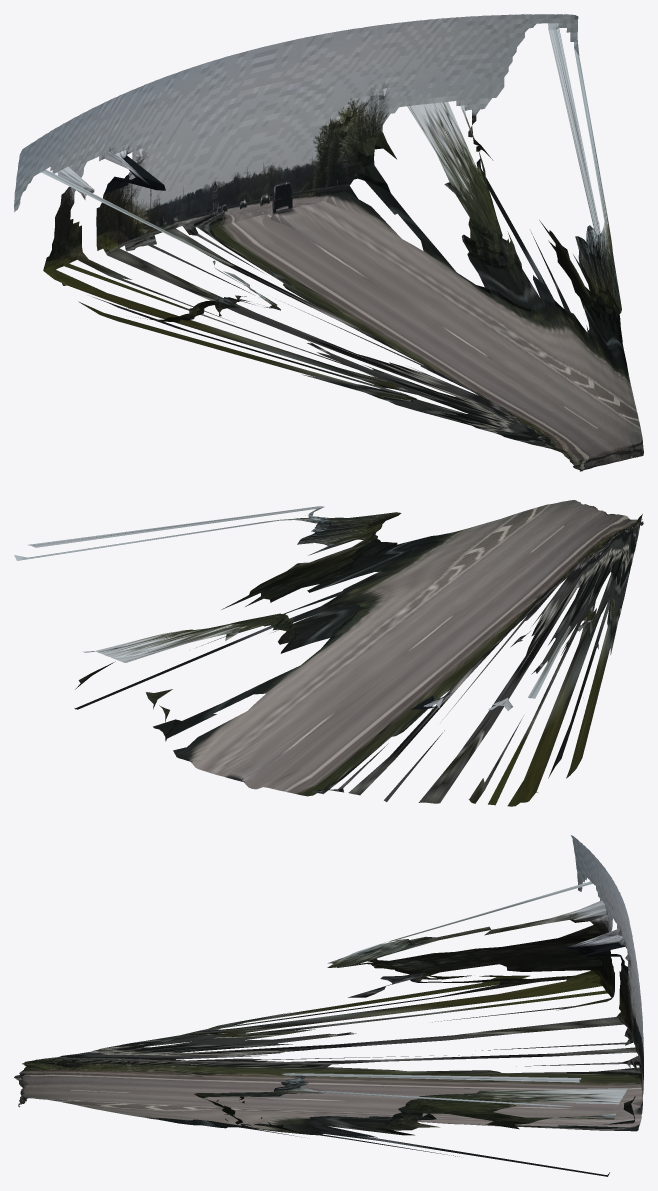
The picture shows the model from 3 angles, top to bottom: view 1: azimuth 30°, elevation 25°; view 2: azimuth 150°, elevation 25°; view 3: azimuth 270°, elevation 25°; orthographic projection. The views are drawn at different scales.
Parts seen in each view (by area): view 1: defaultobject; view 2: defaultobject; view 3: defaultobject.
Boxes of the visible parts, x1,y1,x2,y2 form: defaultobject: [14, 14, 643, 471]; defaultobject: [14, 500, 643, 806]; defaultobject: [14, 835, 643, 1176].
Size of the model in its own units: 40.88 by 12.47 by 44.61.
1 material, 1 textured.
